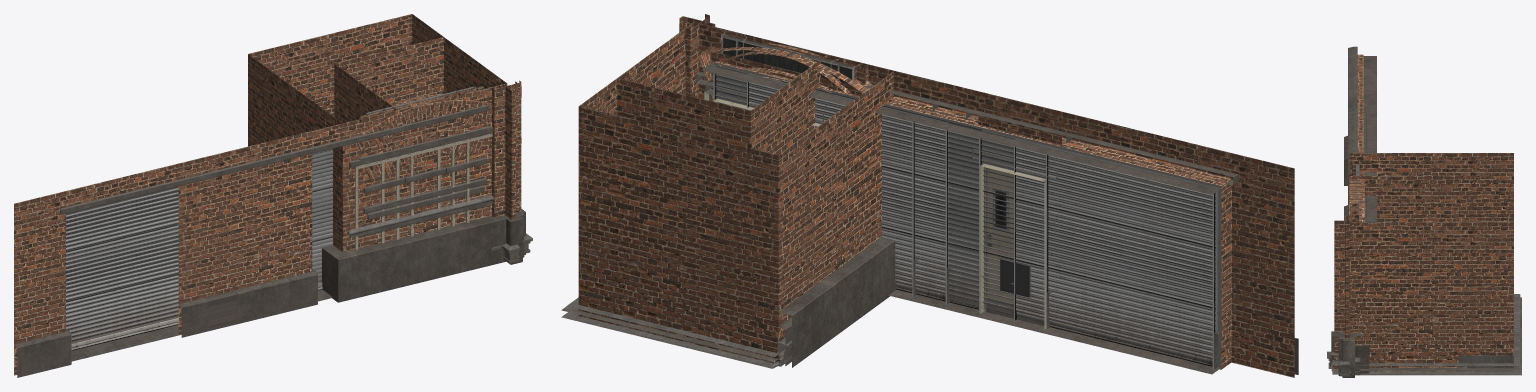
The model's file is factory_kit.cf3241baf7.glb.
3 renders of one model, left to right at view 1: azimuth 30°, elevation 25°; view 2: azimuth 150°, elevation 25°; view 3: azimuth 270°, elevation 25°, orthographic. The views are drawn at different scales.
Visible parts, largest first — view 1: wall_door_garage_double_01, door_garage_double_01, base_standard_corner_large_01, wall_standard_corner_large_02, wall_standard_corner_large_01, wall_door_garage_door_01, wall_standard_corner_small_01, wall_standard_corner_small_02, wall_door_garage_centered_01, dado_garage_double_01, door_garage_centered_01, wall_pier_corner_02 (+18 smaller); view 2: door_garage_double_01, wall_standard_corner_large_02, wall_door_garage_double_01, wall_standard_corner_large_01, door_garage_door_02, door_garage_door_01, base_standard_corner_large_01, wall_standard_corner_small_02, wall_standard_corner_small_01, wall_door_garage_door_01, wall_door_garage_centered_01, wall_door_garage_door_02 (+10 smaller); view 3: wall_standard_corner_small_02, wall_standard_corner_large_02, wall_standard_corner_large_01, wall_standard_corner_small_01, door_garage_double_01, wall_pier_corner_02, cornice02_standard_corner_large_02, door_garage_door_01, cornice03_standard_corner_large_02, wall_pier_corner_01, crown_standard_corner_large_02, wall_window_tall_large_05 (+9 smaller).
Part boxes in pixels (bbox=[...]): wall_door_garage_double_01: bbox=[14, 83, 507, 375]; door_garage_double_01: bbox=[60, 112, 459, 361]; base_standard_corner_large_01: bbox=[321, 215, 508, 302]; wall_standard_corner_large_02: bbox=[248, 14, 506, 116]; wall_standard_corner_large_01: bbox=[248, 54, 342, 252]; wall_door_garage_door_01: bbox=[178, 153, 312, 333]; wall_standard_corner_small_01: bbox=[334, 64, 455, 238]; wall_standard_corner_small_02: bbox=[334, 37, 444, 105]; wall_door_garage_centered_01: bbox=[178, 172, 236, 334]; dado_garage_double_01: bbox=[14, 277, 290, 377]; door_garage_centered_01: bbox=[253, 119, 434, 299]; wall_pier_corner_02: bbox=[492, 86, 515, 219]; door_garage_double_01: bbox=[747, 70, 1238, 374]; wall_standard_corner_large_02: bbox=[578, 22, 778, 363]; wall_door_garage_double_01: bbox=[854, 93, 1294, 377]; wall_standard_corner_large_01: bbox=[778, 71, 893, 342]; door_garage_door_02: bbox=[705, 53, 1071, 328]; door_garage_door_01: bbox=[705, 62, 1057, 329]; base_standard_corner_large_01: bbox=[779, 237, 896, 367]; wall_standard_corner_small_02: bbox=[617, 78, 750, 148]; wall_standard_corner_small_01: bbox=[750, 54, 827, 155]; wall_door_garage_door_01: bbox=[894, 71, 1092, 144]; wall_door_garage_centered_01: bbox=[894, 71, 1092, 143]; wall_door_garage_door_02: bbox=[711, 53, 1094, 144]; wall_standard_corner_small_02: bbox=[1349, 222, 1458, 371]; wall_standard_corner_large_02: bbox=[1458, 222, 1513, 355]; wall_standard_corner_large_01: bbox=[1349, 153, 1513, 222]; wall_standard_corner_small_01: bbox=[1349, 176, 1458, 222]; door_garage_double_01: bbox=[1348, 46, 1376, 152]; wall_pier_corner_02: bbox=[1334, 216, 1349, 369]; cornice02_standard_corner_large_02: bbox=[1360, 294, 1520, 373]; door_garage_door_01: bbox=[1348, 113, 1376, 222]; cornice03_standard_corner_large_02: bbox=[1360, 297, 1521, 375]; wall_pier_corner_01: bbox=[1345, 220, 1361, 339]; crown_standard_corner_large_02: bbox=[1458, 355, 1513, 371]; wall_window_tall_large_05: bbox=[1348, 173, 1364, 222].
Bounding box in the file's own units: 9.35 × 3.03 × 3.56.
Materials: 6 (6 with a texture image).
